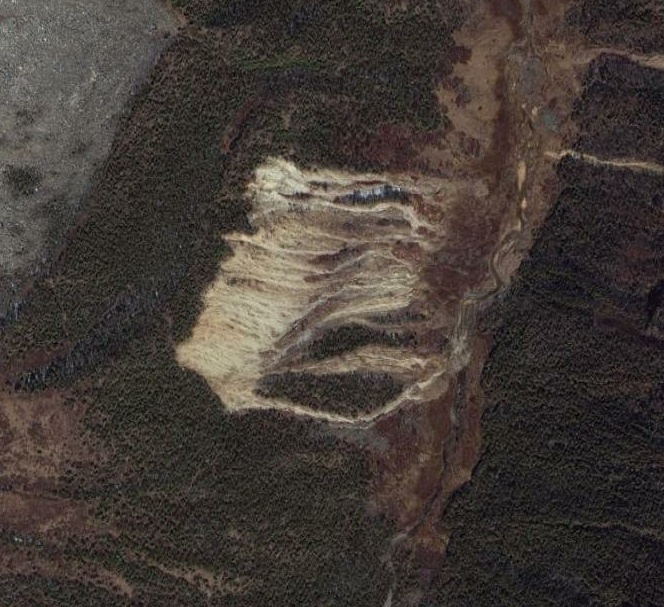slope: (168, 148, 491, 428)
